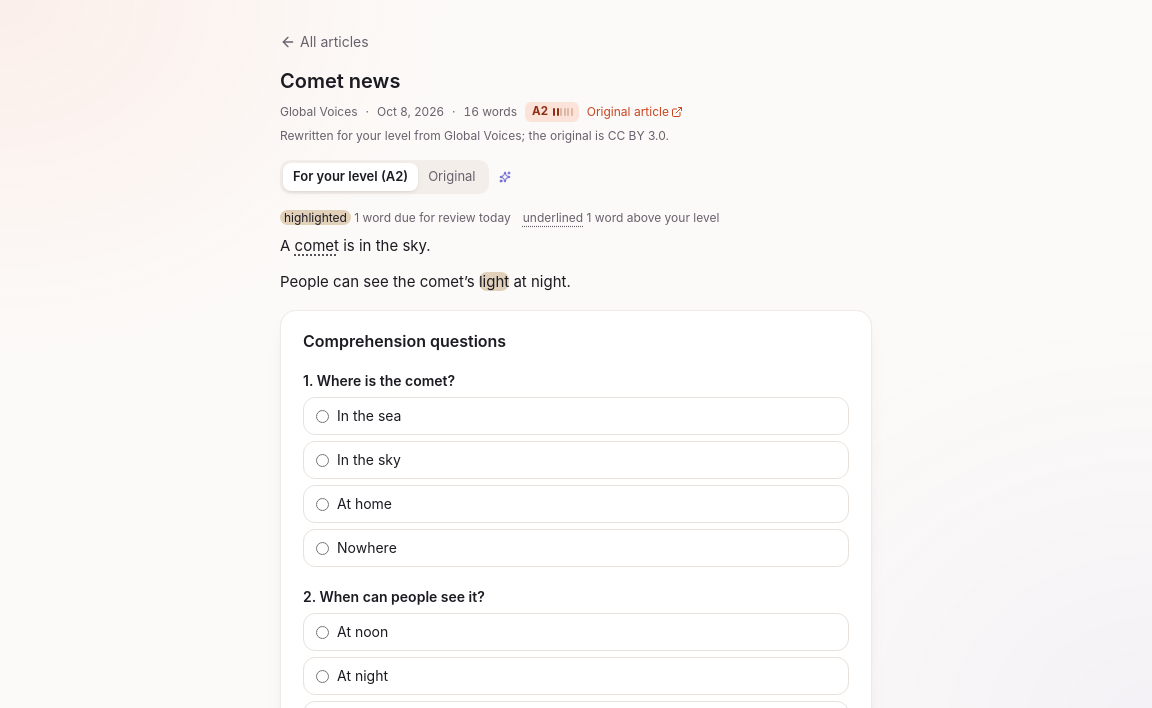
ReadingArticle › switches to the original, with its own due words
The width and height of the screenshot is (1152, 708).
Expected: the heading "Comet news" is shown, [280,69,400,93]
Click the radio button labelled "Original" at [452, 176], box [418,162,486,190]
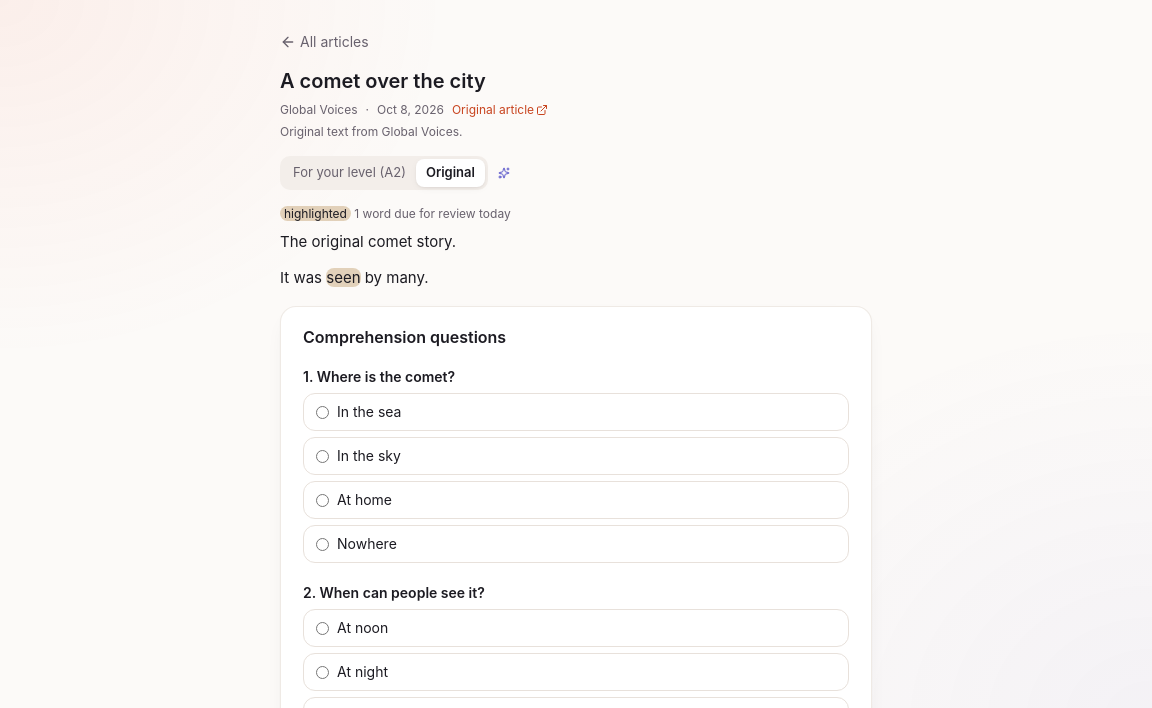
Now the heading with test id "reading-title" reads "A comet over the city", box [280,69,486,93]
Now the element with test id "reading-text" shows "The original comet story.", box [280,232,456,287]
Now the text with test id "reading-license" reads "Original text from Global Voices.", box [280,124,462,138]
